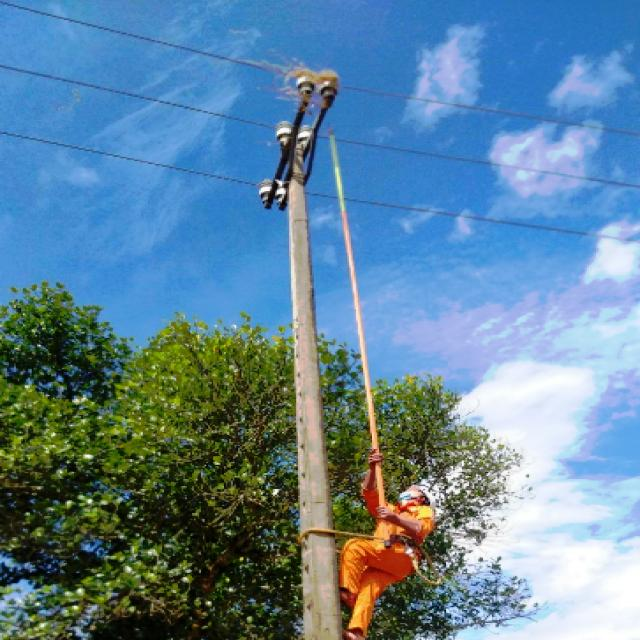obstruction: (273, 63, 344, 118)
poles: (254, 80, 346, 636)
wires: (2, 2, 281, 77), (323, 190, 638, 247), (1, 61, 263, 129), (347, 135, 638, 193), (350, 82, 635, 135)
